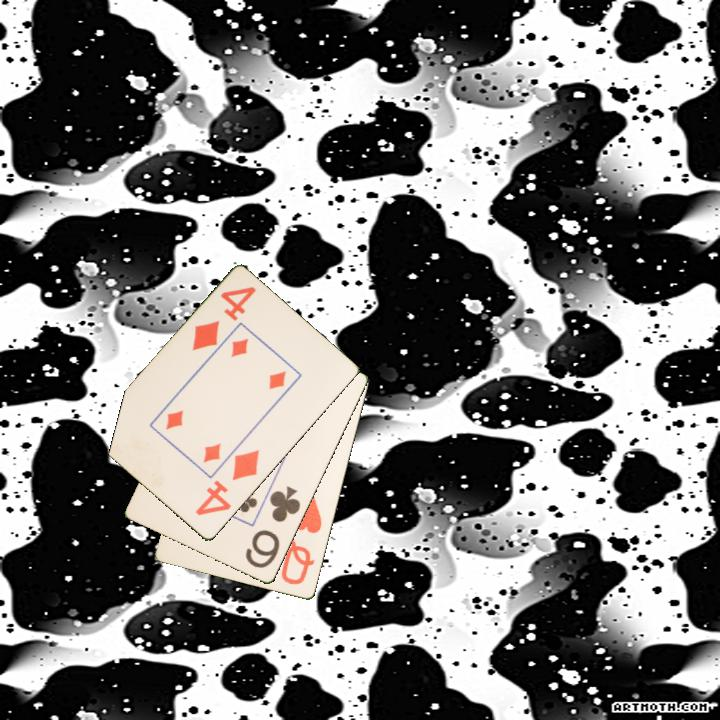4d: (192, 447, 263, 519), (189, 283, 260, 354)
6c: (242, 483, 304, 572)
Qh: (278, 494, 325, 588)
